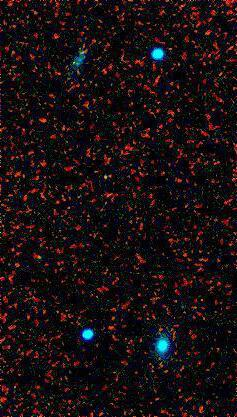star: (61, 44, 91, 74)
